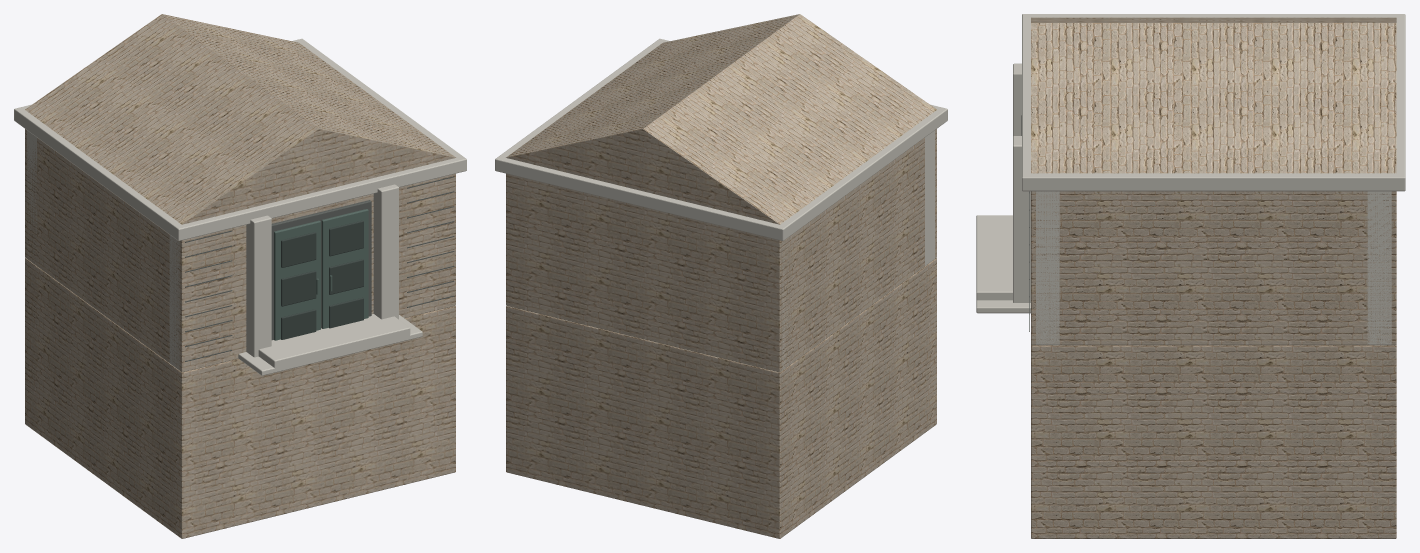
File: pond-family-crypt.glb
3 views of the same model, side by side, from view 1: azimuth 30°, elevation 25°; view 2: azimuth 150°, elevation 25°; view 3: azimuth 270°, elevation 25° (orthographic). The views are drawn at different scales.
Parts seen in each view (by area): view 1: pond-family-crypt Polish limestone, pond-family-crypt Polish dressed limestone, pond-family-crypt Polish weathered iron, pond-family-crypt Polish crypt bronze, pond-family-crypt Polish carved recess; view 2: pond-family-crypt Polish limestone, pond-family-crypt Polish dressed limestone; view 3: pond-family-crypt Polish limestone, pond-family-crypt Polish dressed limestone.
Part boxes in pixels (x1,y1,x2,y2): pond-family-crypt Polish limestone: [25, 14, 455, 538]; pond-family-crypt Polish dressed limestone: [14, 38, 466, 375]; pond-family-crypt Polish weathered iron: [281, 220, 363, 339]; pond-family-crypt Polish crypt bronze: [274, 209, 368, 340]; pond-family-crypt Polish carved recess: [185, 176, 454, 361]; pond-family-crypt Polish limestone: [506, 14, 936, 538]; pond-family-crypt Polish dressed limestone: [495, 38, 947, 370]; pond-family-crypt Polish limestone: [1031, 17, 1396, 538]; pond-family-crypt Polish dressed limestone: [976, 14, 1405, 345].
Size of the model in its own units: 6.89 by 8.6 by 7.63.
Materials: 5 (1 with a texture image).
